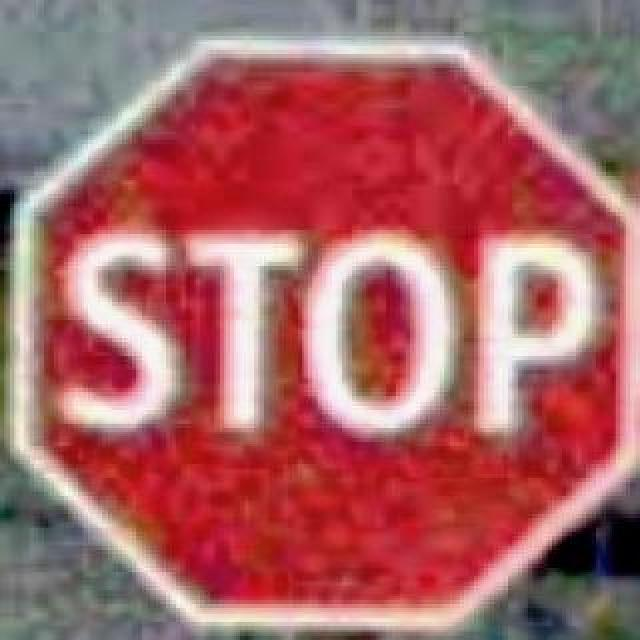stop: (0, 32, 636, 636)
